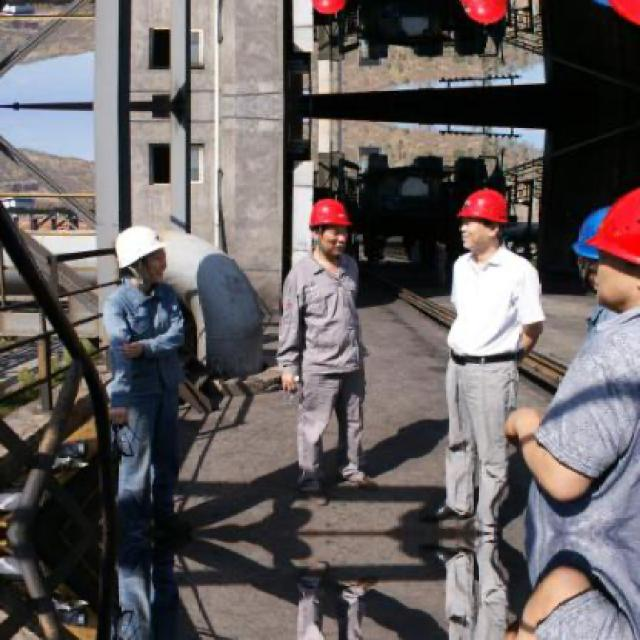con casco: (545, 179, 640, 333), (113, 226, 214, 302), (446, 188, 537, 262), (279, 199, 366, 264)
